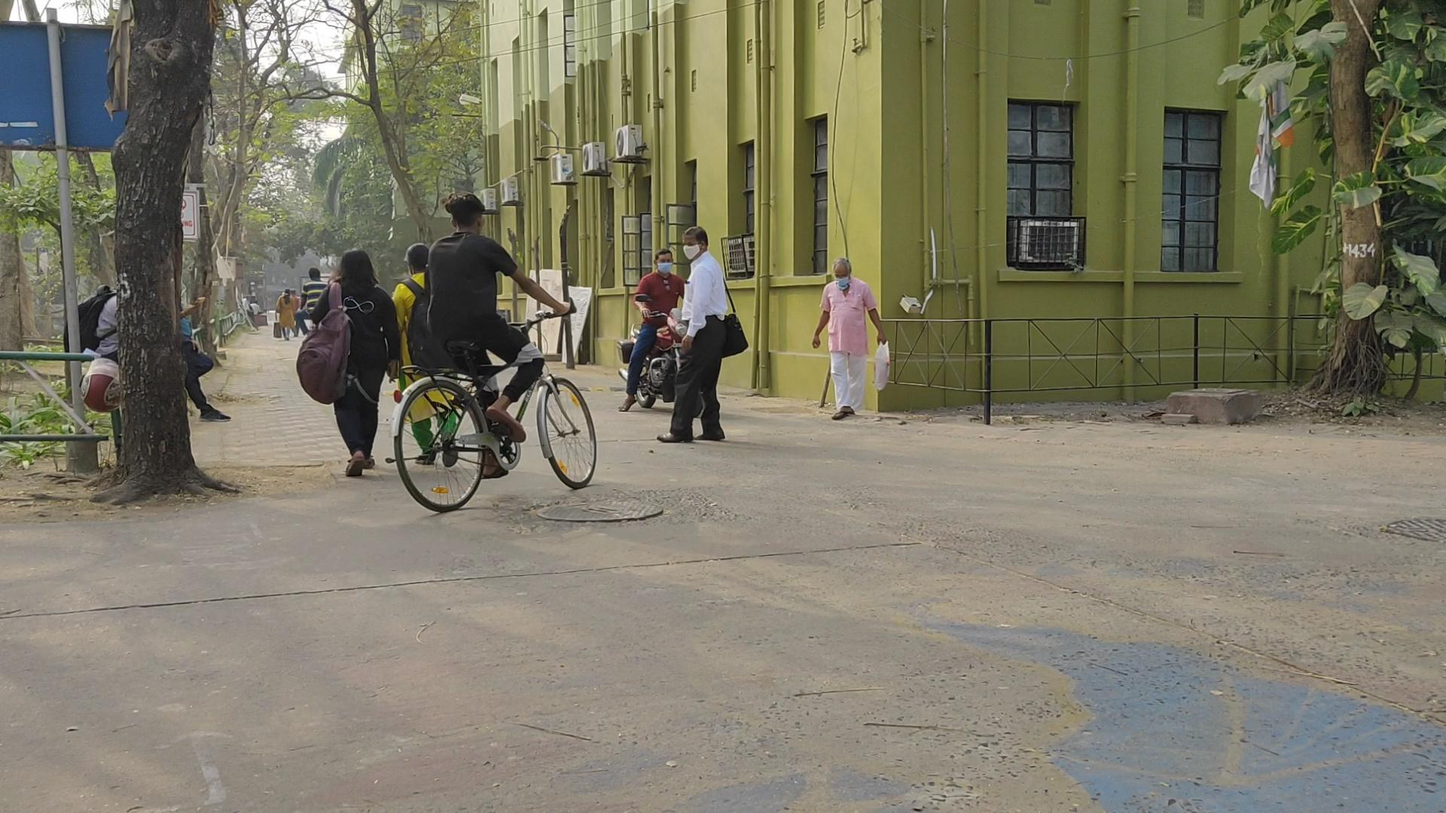bike: (386, 194, 597, 513), (617, 248, 714, 420), (295, 266, 331, 350)
